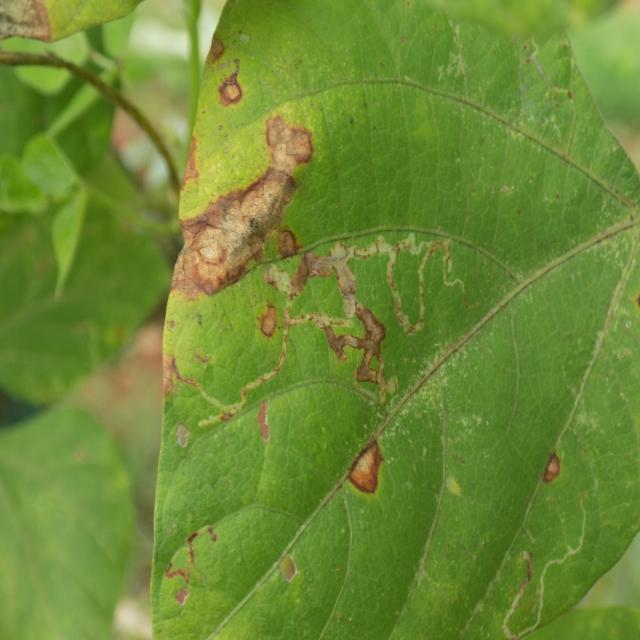Dolicos bean_cercospora leaf spot: (150, 0, 640, 640)
Dolicos bean_healthy: (0, 396, 139, 640)
